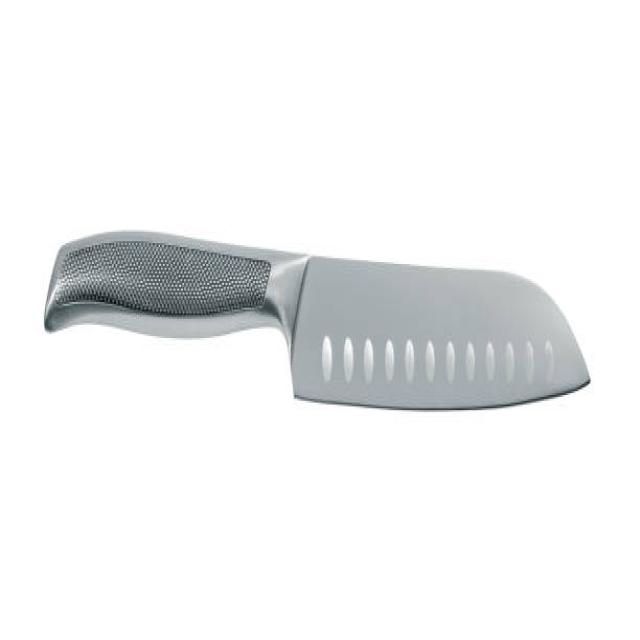knife: (33, 220, 597, 421)
